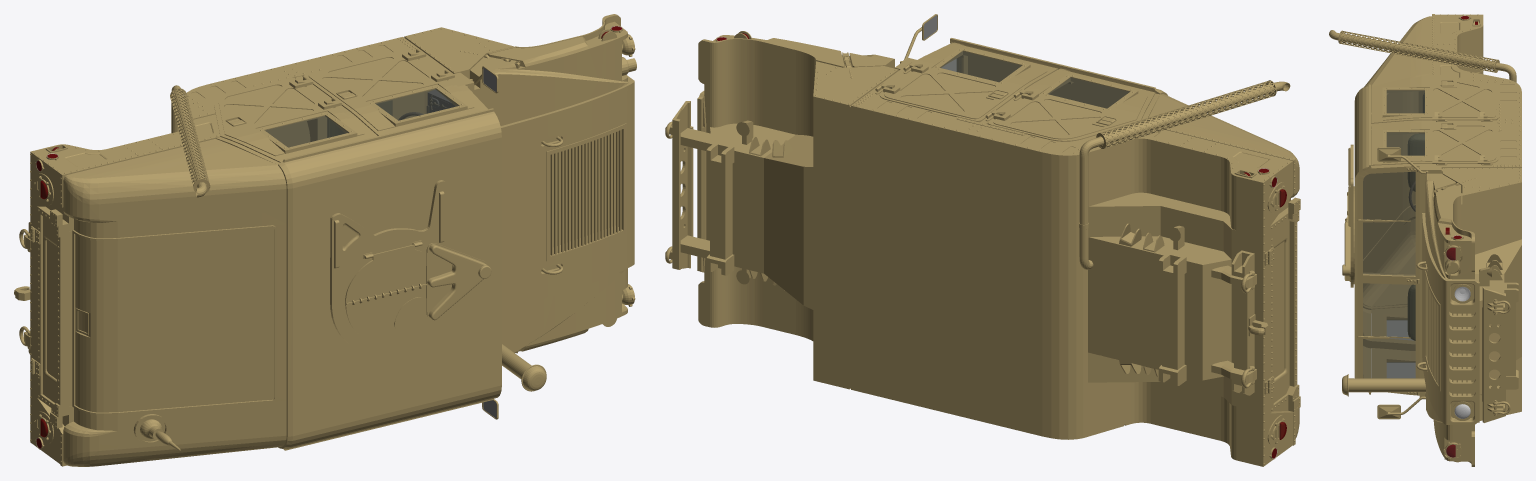
Rendered from hmmwv_chassis.obj.
3 views of the same model, side by side, from view 1: azimuth 30°, elevation 25°; view 2: azimuth 150°, elevation 25°; view 3: azimuth 270°, elevation 25° (orthographic). The views are drawn at different scales.
Parts seen in each view (by area): view 1: roof_cap_roof_cap.001, body_body.001, hatch_hatch.001, turret_turret.001, door_d1_door_d1.001, tailgate_tailgate.001, door_d2_door_d2.001, turret.hat_turret.hat.001, interior_interior.001, turret.ha0_turret.ha0.001, exhst_stac_exhst_stac.001, door_d1.wi_door_d1.wi.001 (+2 smaller); view 2: body_body.001, bumpers_bumpers.001, door_d1_door_d1.001, door_d2_door_d2.001, roof_cap_roof_cap.001, tailgate_tailgate.001, exhst_stac_exhst_stac.001, door_d2.wi_door_d2.wi.001, door_d1.wi_door_d1.wi.001; view 3: body_body.001, windshld_windshld.001, roof_cap_roof_cap.001, door_d2_door_d2.001, door_d1_door_d1.001, hatch_hatch.001, bumpers_bumpers.001, exhst_stac_exhst_stac.001, turret_turret.001, lites_lites.002, door_d2.wi_door_d2.wi.001, door_p1_door_p1.001 (+11 smaller).
Part boxes in pixels (bbox=[...]): roof_cap_roof_cap.001: bbox=[63, 108, 501, 466]; body_body.001: bbox=[30, 14, 634, 466]; hatch_hatch.001: bbox=[72, 228, 274, 412]; turret_turret.001: bbox=[330, 180, 491, 353]; door_d1_door_d1.001: bbox=[304, 51, 481, 135]; tailgate_tailgate.001: bbox=[31, 206, 72, 428]; door_d2_door_d2.001: bbox=[214, 78, 371, 162]; turret.hat_turret.hat.001: bbox=[345, 244, 426, 304]; interior_interior.001: bbox=[62, 91, 430, 465]; turret.ha0_turret.ha0.001: bbox=[345, 284, 426, 342]; exhst_stac_exhst_stac.001: bbox=[170, 85, 210, 197]; door_d1.wi_door_d1.wi.001: bbox=[375, 88, 458, 120]; body_body.001: bbox=[680, 35, 1295, 466]; bumpers_bumpers.001: bbox=[665, 101, 1268, 395]; door_d1_door_d1.001: bbox=[879, 44, 1057, 122]; door_d2_door_d2.001: bbox=[988, 70, 1155, 141]; roof_cap_roof_cap.001: bbox=[950, 38, 1299, 438]; tailgate_tailgate.001: bbox=[1267, 197, 1300, 412]; exhst_stac_exhst_stac.001: bbox=[1079, 80, 1290, 224]; door_d2.wi_door_d2.wi.001: bbox=[1048, 77, 1129, 108]; door_d1.wi_door_d1.wi.001: bbox=[940, 51, 1021, 81]; body_body.001: bbox=[1342, 14, 1521, 466]; windshld_windshld.001: bbox=[1363, 171, 1415, 378]; roof_cap_roof_cap.001: bbox=[1354, 16, 1431, 394]; door_d2_door_d2.001: bbox=[1371, 74, 1498, 123]; door_d1_door_d1.001: bbox=[1371, 122, 1498, 165]; hatch_hatch.001: bbox=[1363, 91, 1418, 259]; bumpers_bumpers.001: bbox=[1482, 287, 1505, 422]; exhst_stac_exhst_stac.001: bbox=[1329, 30, 1516, 82]; turret_turret.001: bbox=[1342, 144, 1354, 287]; lites_lites.002: bbox=[1443, 15, 1478, 462]; door_d2.wi_door_d2.wi.001: bbox=[1386, 90, 1424, 113]; door_p1_door_p1.001: bbox=[1371, 348, 1415, 378].
Bounding box in the file's own units: 4.73 × 2.56 × 1.65.
